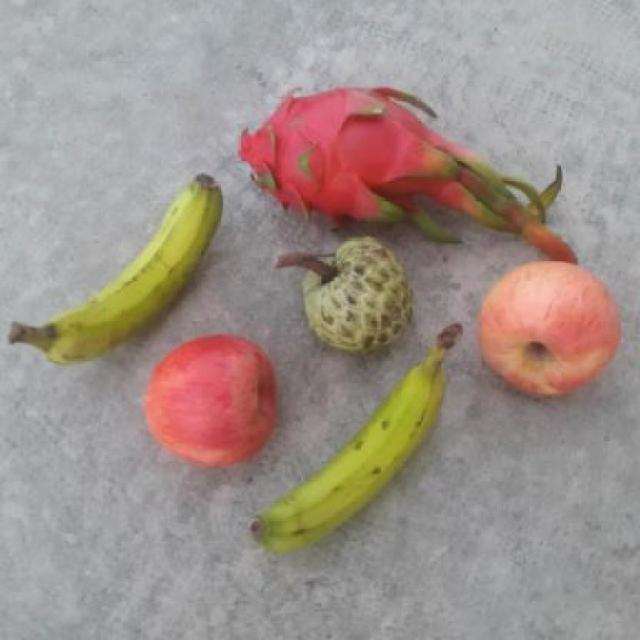apple: (474, 260, 621, 406), (142, 332, 282, 471)
banana: (239, 314, 473, 557), (2, 172, 226, 386)
dragon fruit: (239, 84, 453, 241)
sugar apple: (298, 235, 412, 356)
